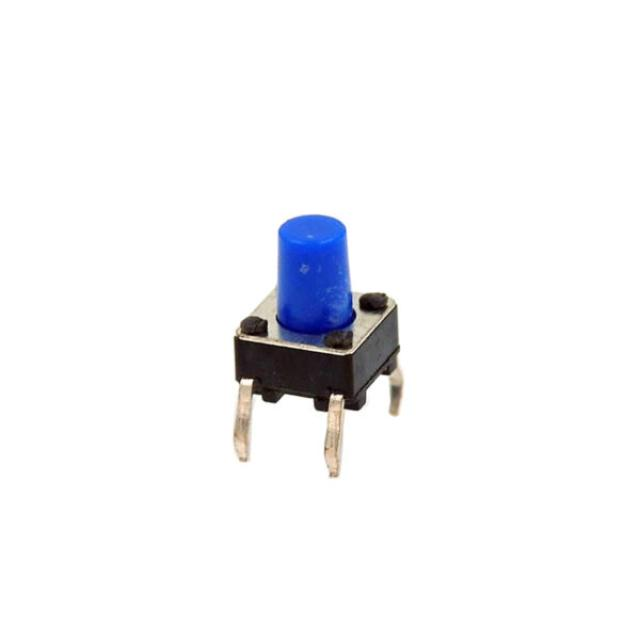Push button: (234, 214, 403, 460)
